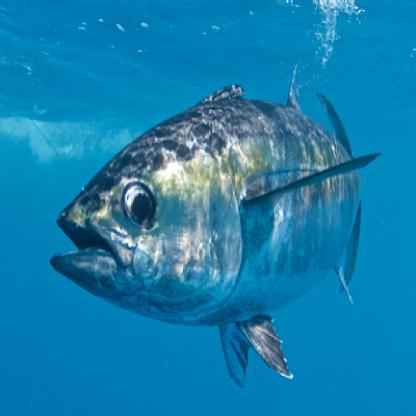tuna: (48, 60, 388, 393)
